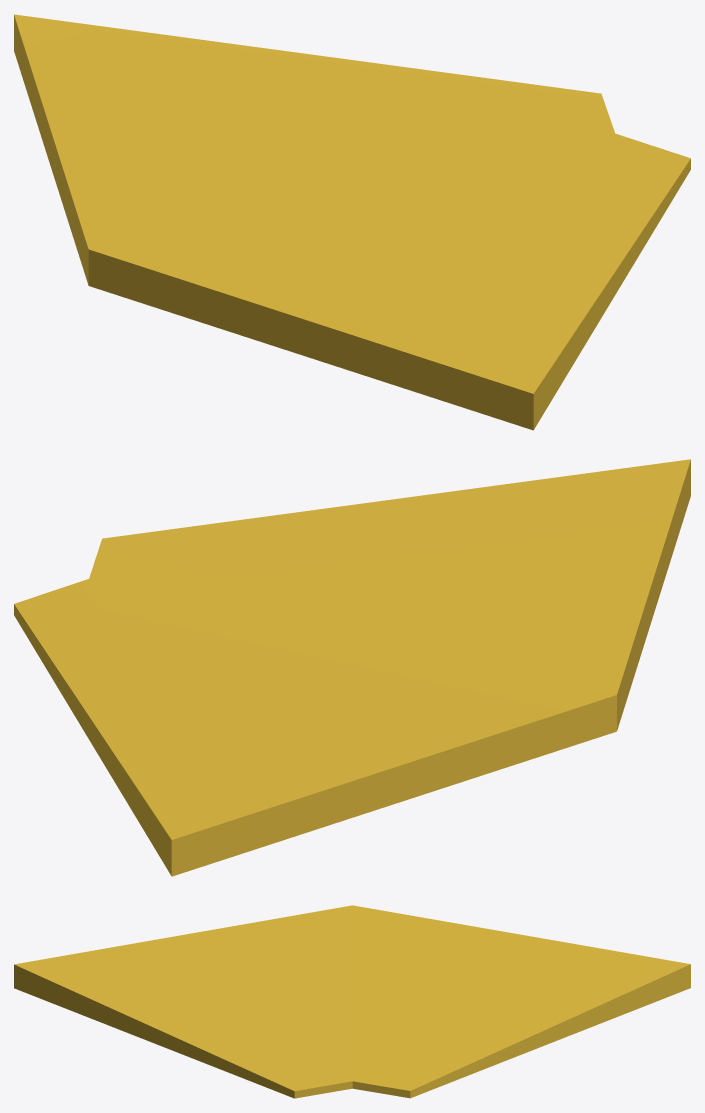
Rendered from base_level_piece_4.fbx.
The picture shows the model from 3 angles, top to bottom: view 1: azimuth 30°, elevation 25°; view 2: azimuth 150°, elevation 25°; view 3: azimuth 270°, elevation 25°; orthographic projection. The views are drawn at different scales.
Parts seen in each view (by area): view 1: polySurface11; view 2: polySurface11; view 3: polySurface11.
Boxes of the visible parts, box(x1,y1,x2,y2) form: polySurface11: box(14, 14, 690, 430); polySurface11: box(14, 459, 690, 876); polySurface11: box(14, 905, 690, 1098).
Bounding box in the file's own units: 2177 × 136 × 3505.
